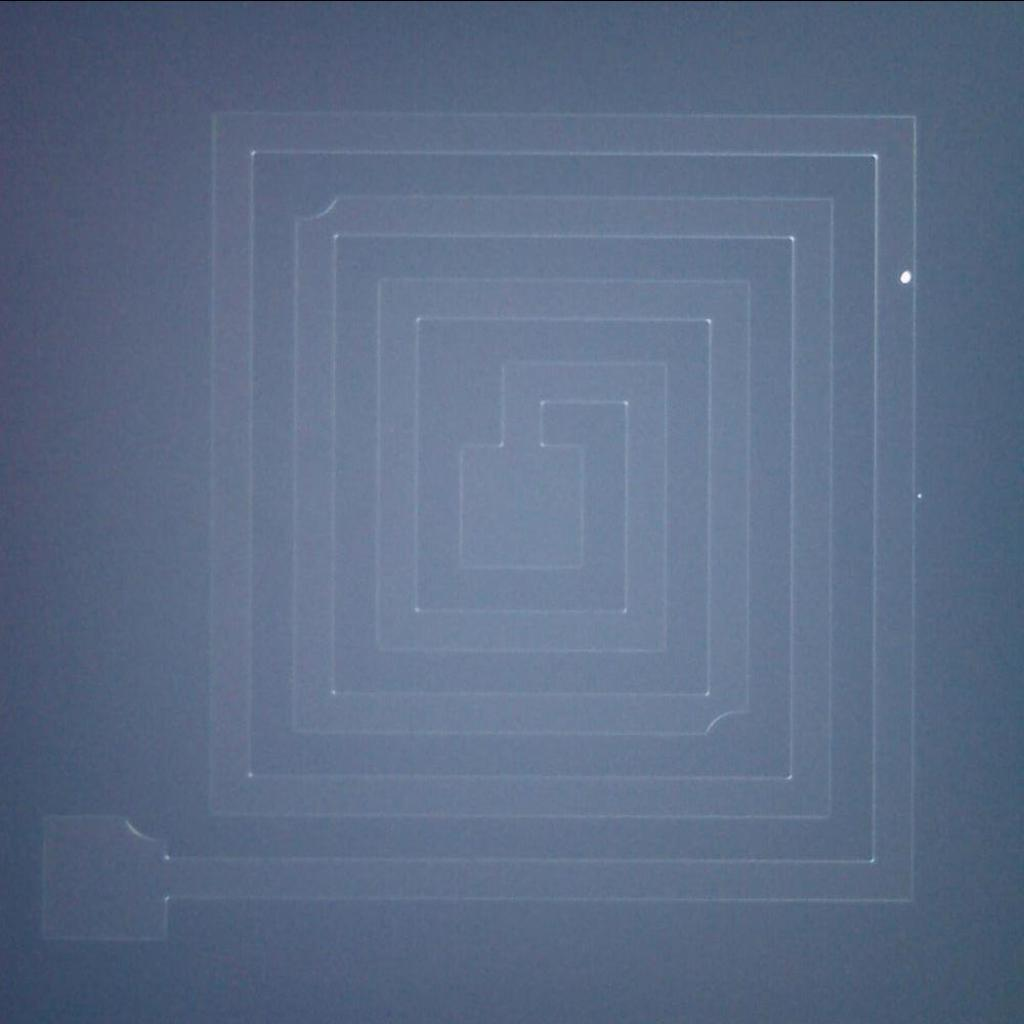curve circuit: (104, 801, 180, 857), (280, 182, 351, 226), (701, 699, 759, 748)
dot: (909, 480, 930, 505)
spot: (894, 263, 917, 291)
